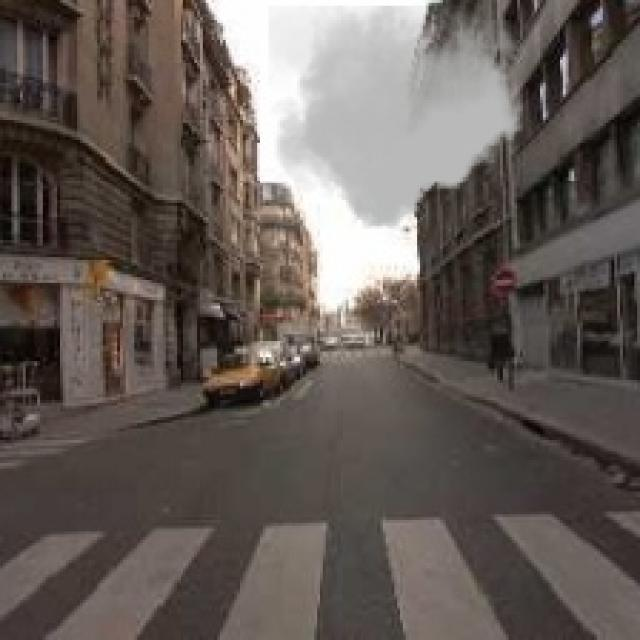Smoke: (268, 5, 528, 228)
